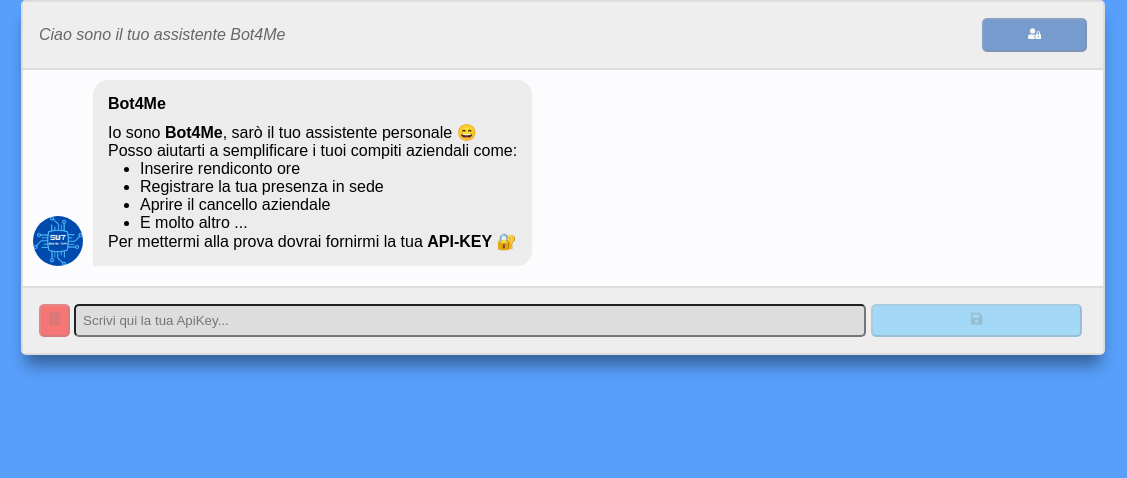
Test: test Integration Messagge › test per mostrare il messaggio scritto
This screenshot has width=1127, height=478.
Type "12345678-1234-1234-1234-123456789012" into the field with test id "apikeyInput" at (470, 320), box [74,304,866,337]
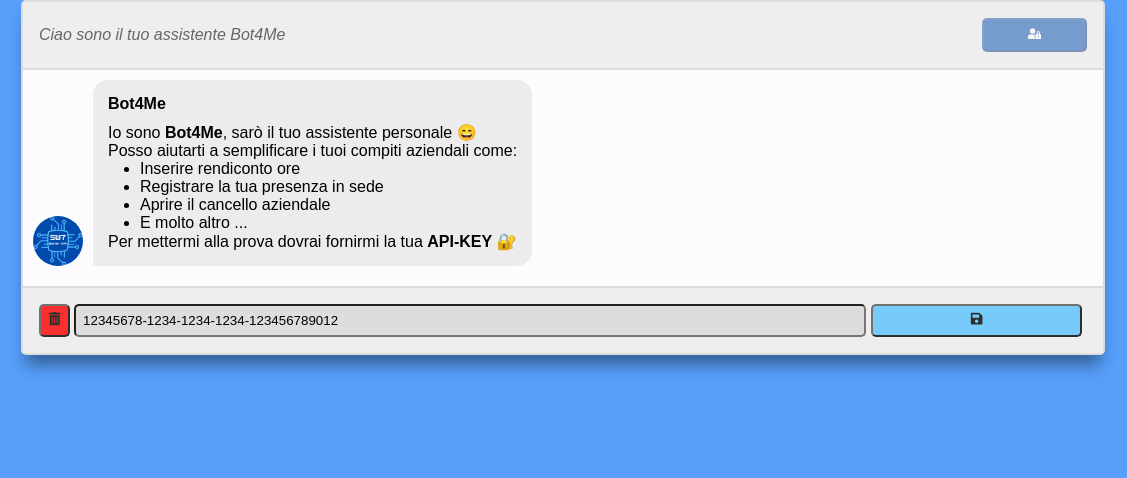
Click the button with test id "SALVA API-KEY" at (977, 320), box [871,304,1082,337]
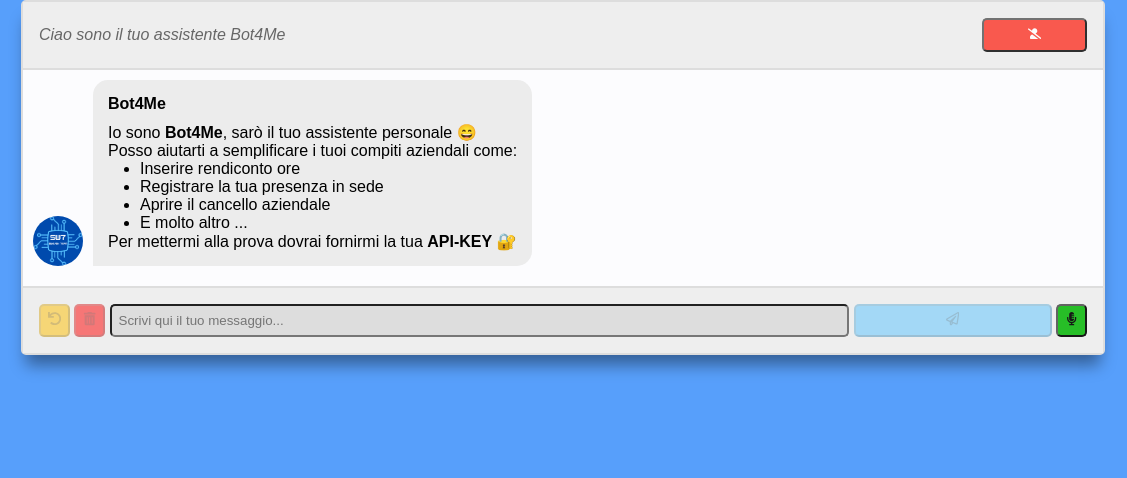
Type "Prova Messaggio" into the field with placeholder "Scrivi qui il tuo messaggio..." at (479, 320), box [110,304,849,337]
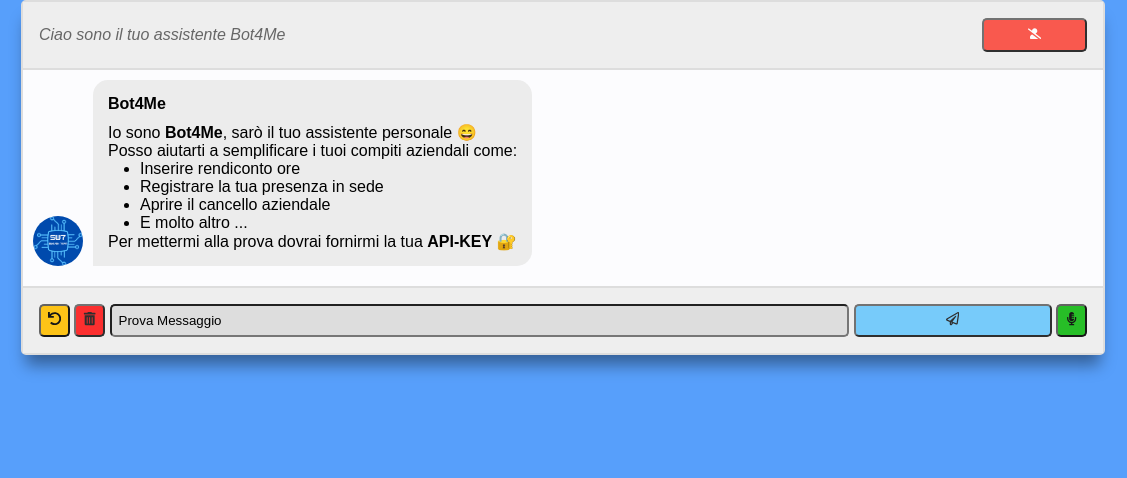
Click the button with test id "INVIA MESSAGGIO" at (953, 320), box [854,304,1052,337]
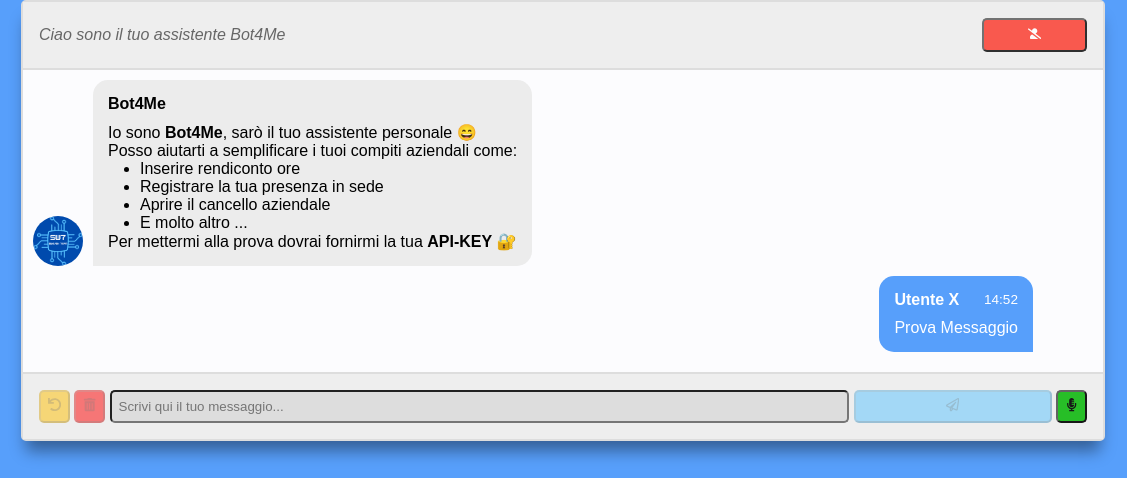
Expected: the text "Prova Messaggio" is shown, [894,319,1018,337]
